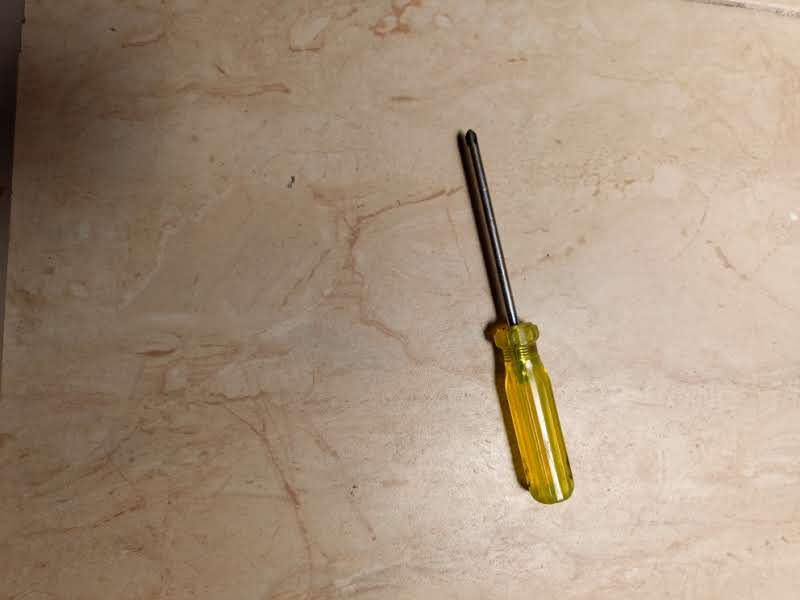Destornillador: (459, 130, 572, 502)
